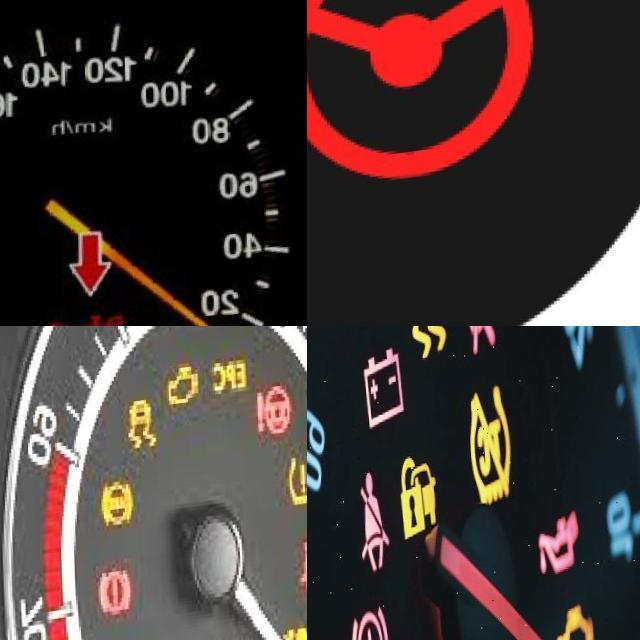Electronic Power Steering: (247, 394, 297, 453)
Electronic Power Steering Warning: (307, 0, 536, 208)
Seat Belt: (359, 475, 383, 577), (288, 545, 307, 607)
